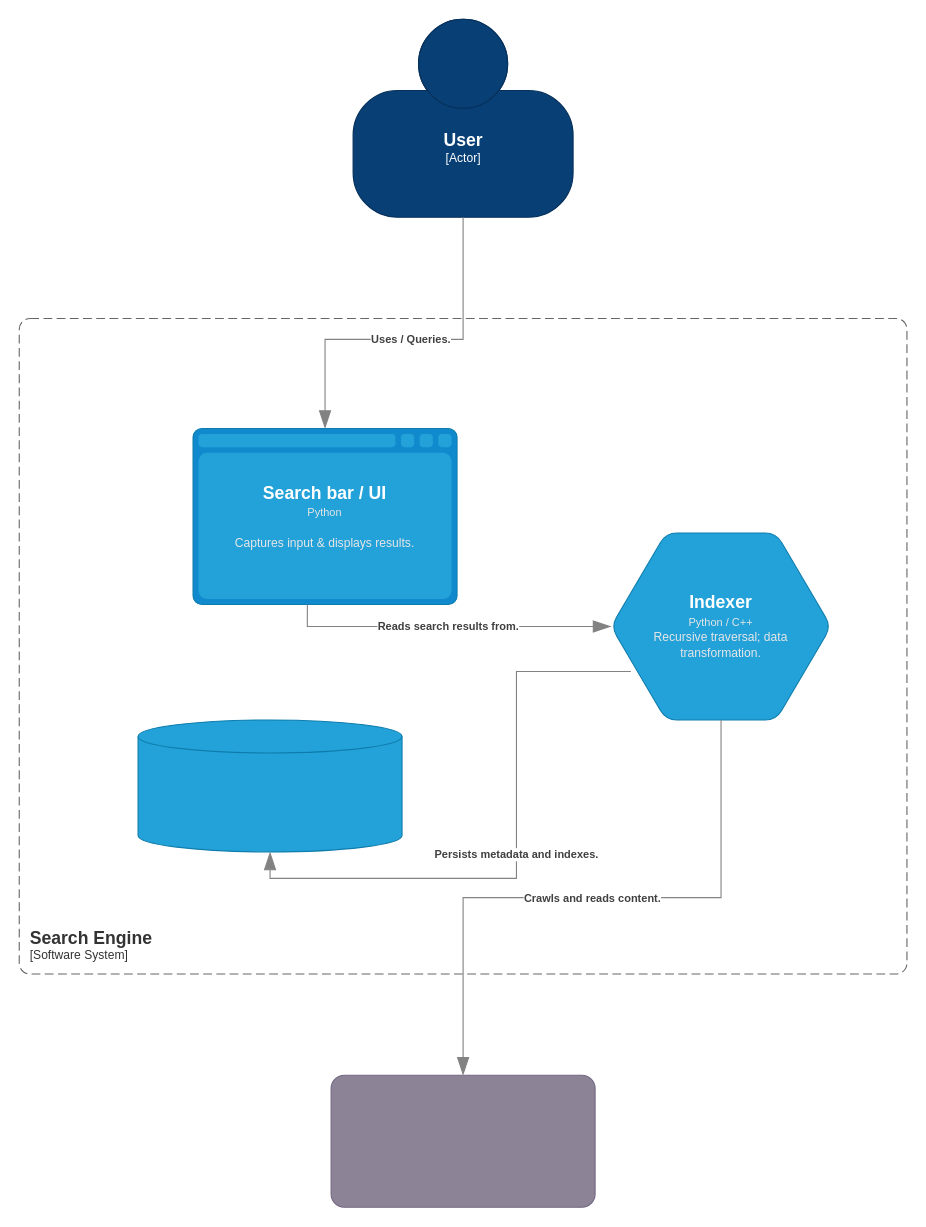
The diagram is 926 pixels wide and 1227 high, and some of its shapes have lost their labels. The shapes that lost their labels are listed below. From the top down, each one's centre as x and y in pixels, then its label:
At (269,785): "Database SQLite / PostgreSQL Stores metadata and searchable content.".
At (462,1140): "Local File System [External System]".
